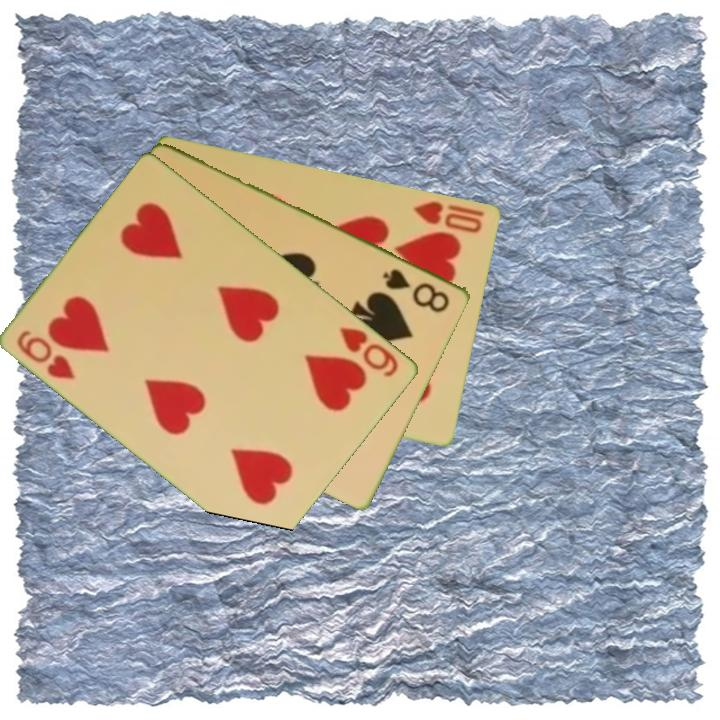10h: (410, 197, 488, 236)
6h: (336, 323, 402, 380), (14, 326, 79, 383)
8s: (379, 264, 453, 316)
